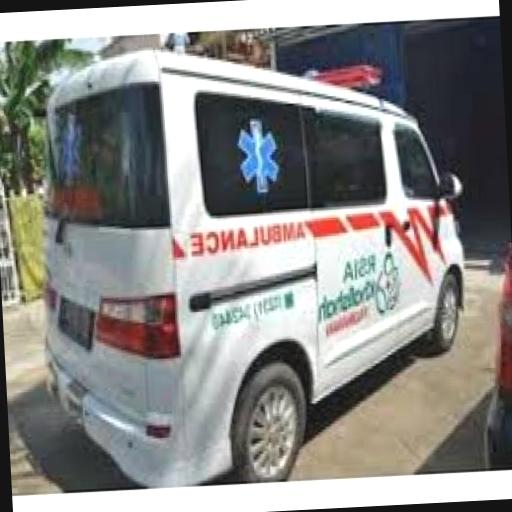Police car: (23, 30, 484, 492)
